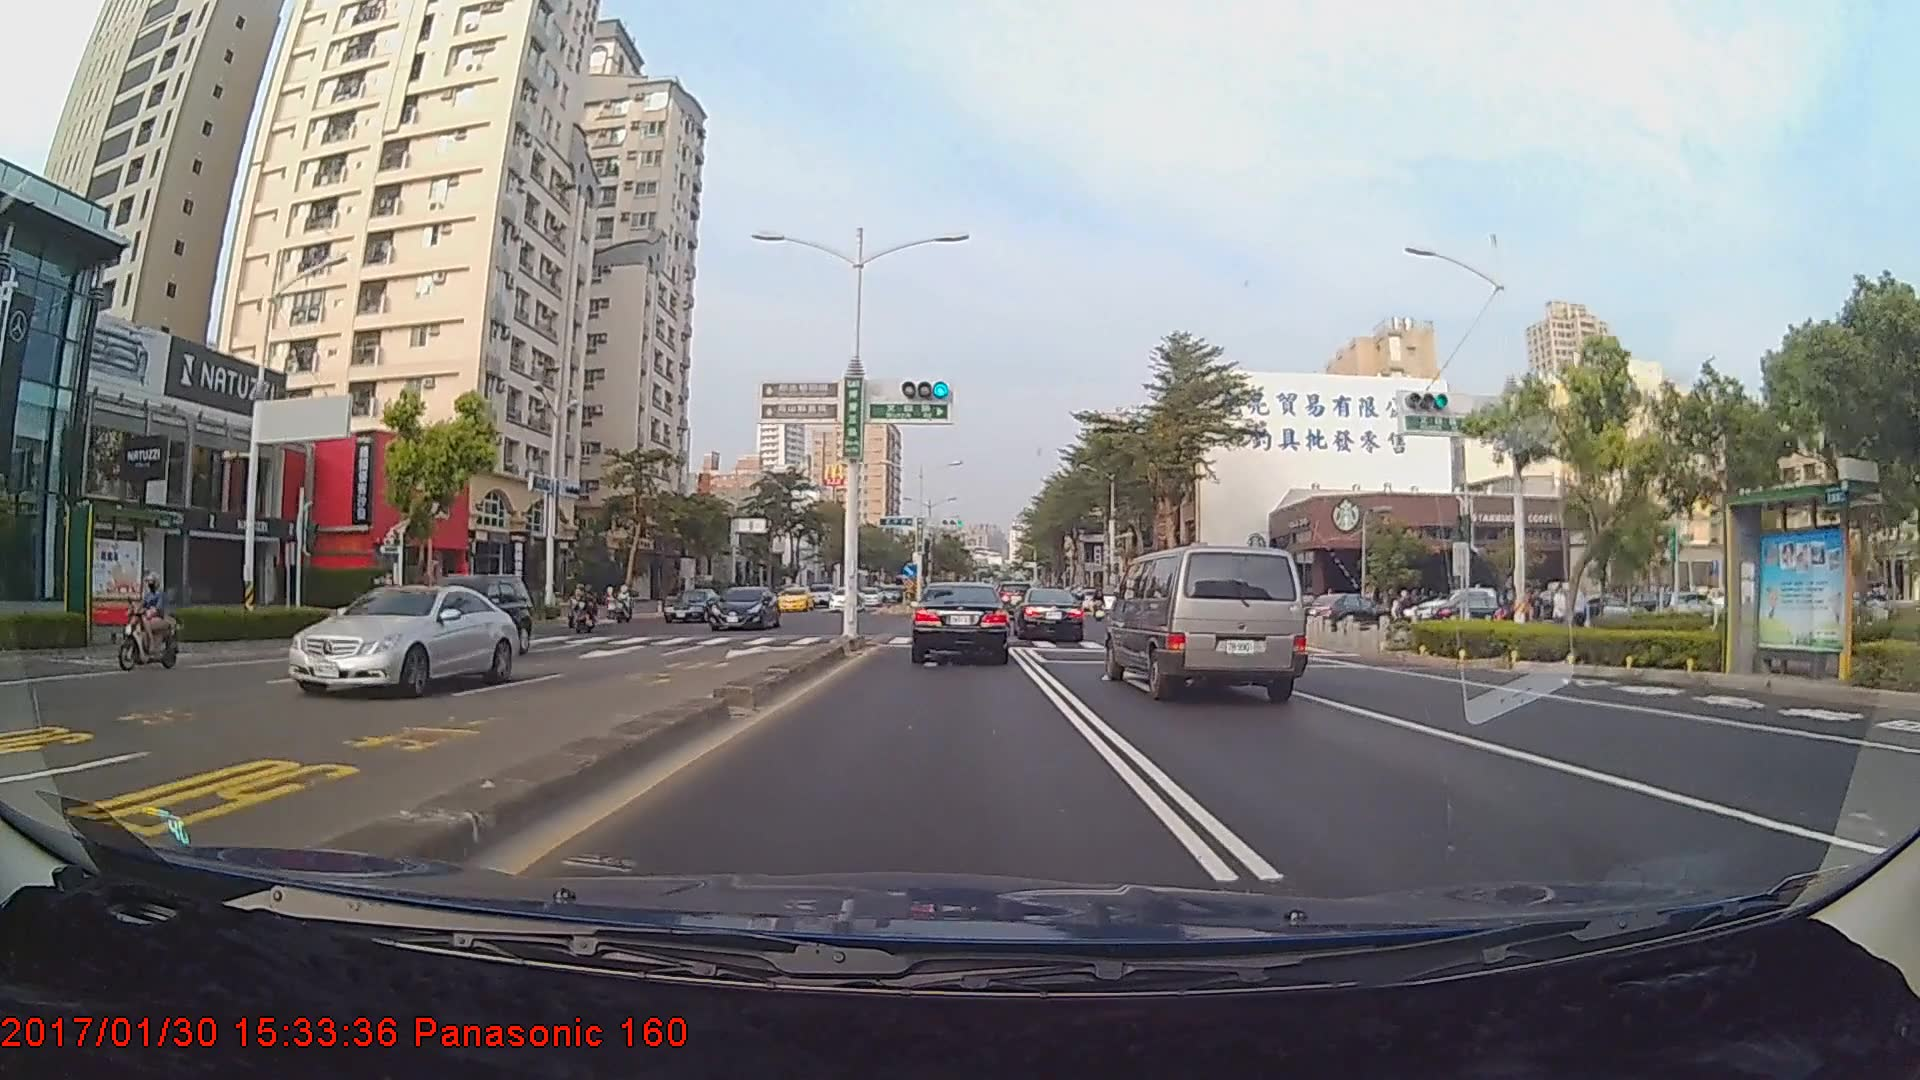pedestrian: (1572, 586, 1592, 646), (1551, 584, 1571, 639)
rider: (105, 572, 183, 672), (359, 574, 411, 646)
vehicle: (1104, 540, 1310, 703), (281, 583, 520, 700), (397, 575, 529, 662), (911, 580, 1009, 664), (1014, 587, 1085, 642), (1308, 594, 1391, 635), (706, 586, 781, 632), (661, 588, 724, 622), (826, 586, 868, 613)
